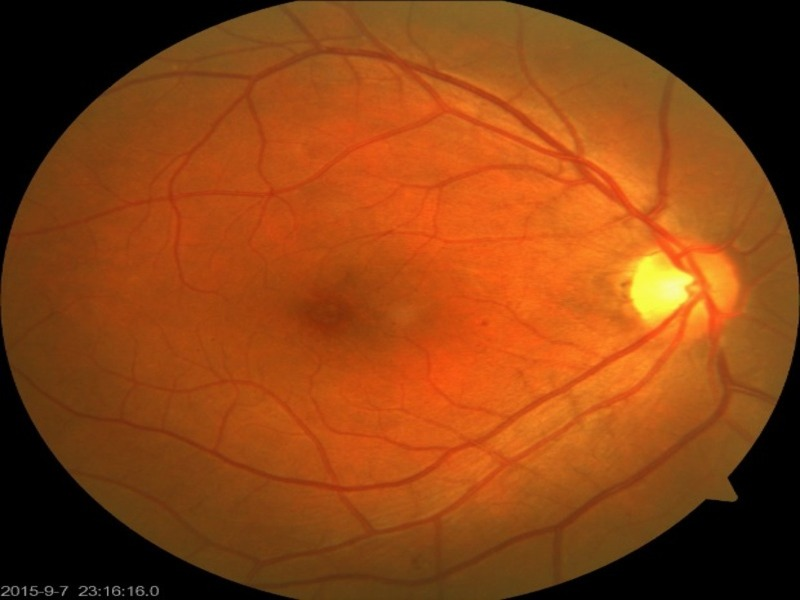Optic Cup: (630, 254, 691, 319)
Optic Disc: (617, 237, 738, 339)
